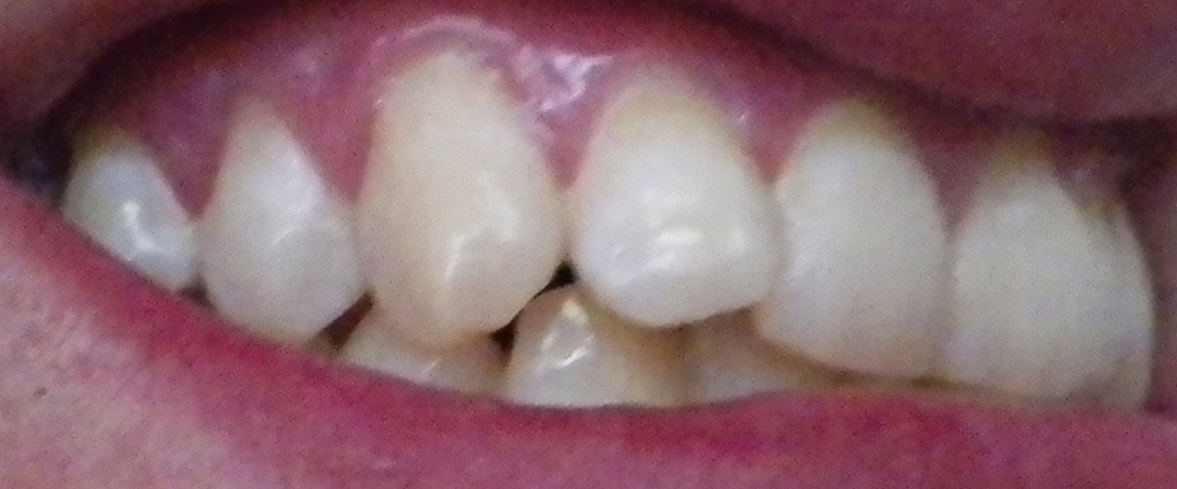boca: (76, 63, 1170, 404)
